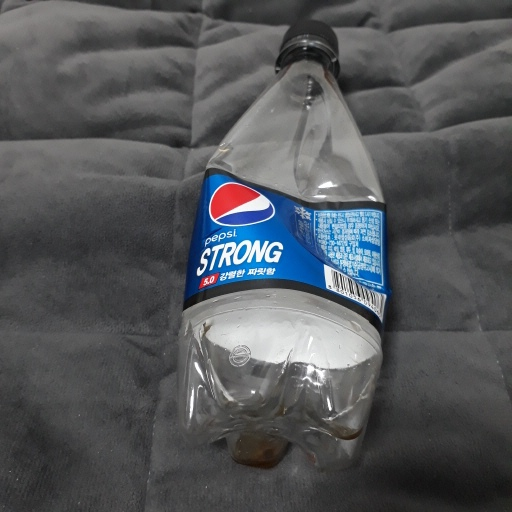Plastic_0: (180, 19, 386, 465)
